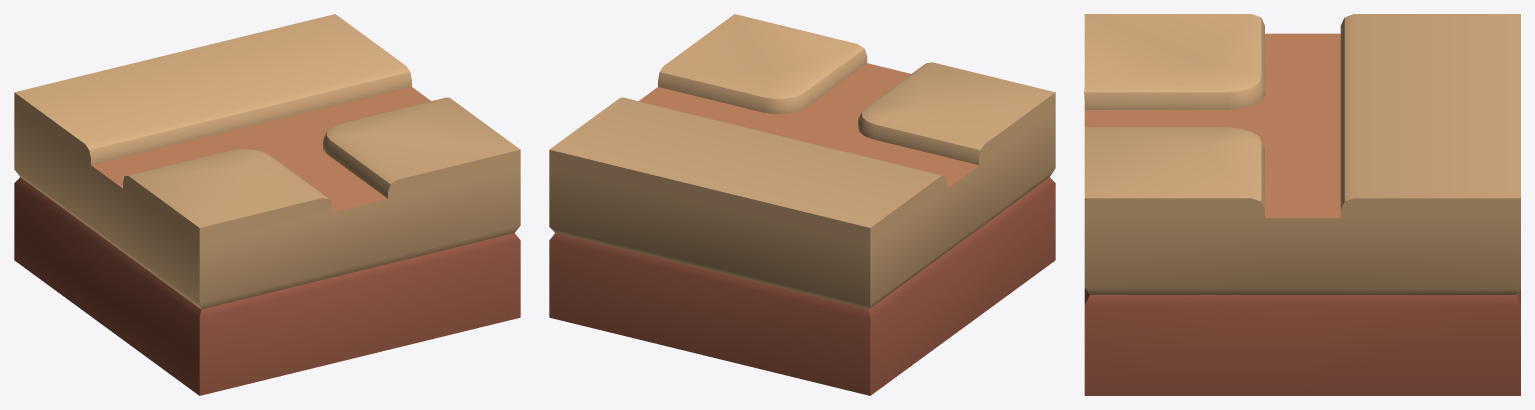
The model's file is square_sand_roadD_detail.glb.
The picture shows the model from 3 angles, left to right: view 1: azimuth 30°, elevation 25°; view 2: azimuth 150°, elevation 25°; view 3: azimuth 270°, elevation 25°; orthographic projection. The views are drawn at different scales.
Parts seen in each view (by area): view 1: square_sand_roadD_detail; view 2: square_sand_roadD_detail; view 3: square_sand_roadD_detail.
Part boxes in pixels (left/top/right/bottom): square_sand_roadD_detail: left=14, top=14, right=520, bottom=395; square_sand_roadD_detail: left=549, top=14, right=1055, bottom=395; square_sand_roadD_detail: left=1084, top=14, right=1520, bottom=395.
Size of the model in its own units: 3.82 by 1.91 by 3.82.
